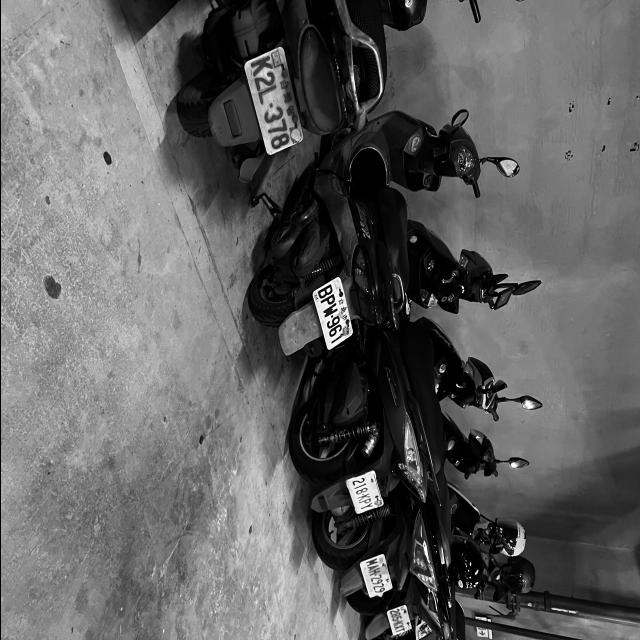-: (267, 102, 273, 110), (329, 314, 333, 318), (360, 493, 363, 496), (373, 574, 376, 577)
1: (329, 332, 344, 346), (353, 482, 366, 491)
2: (251, 69, 276, 93), (350, 477, 365, 488), (369, 574, 382, 584), (372, 583, 385, 591), (388, 608, 399, 615)
3: (261, 104, 284, 126)
5: (390, 615, 402, 622)
6: (327, 323, 342, 339)
7: (266, 117, 288, 137)
8: (269, 131, 290, 152), (354, 486, 368, 496), (390, 612, 400, 619)
9: (325, 315, 340, 331), (371, 578, 383, 586), (373, 587, 385, 594)
A: (366, 564, 379, 572)
B: (316, 282, 333, 300)
H: (367, 567, 380, 577)
K: (248, 54, 273, 78), (356, 493, 370, 503), (392, 620, 403, 628)
L: (256, 83, 277, 107)
M: (364, 558, 378, 567)
T: (394, 627, 405, 634)
W: (322, 301, 338, 318)
X: (393, 624, 404, 631)
Y: (359, 502, 373, 511)
plate: (244, 49, 301, 156), (313, 278, 350, 349), (360, 556, 391, 598), (347, 475, 379, 515), (319, 292, 336, 309), (357, 498, 372, 506)
